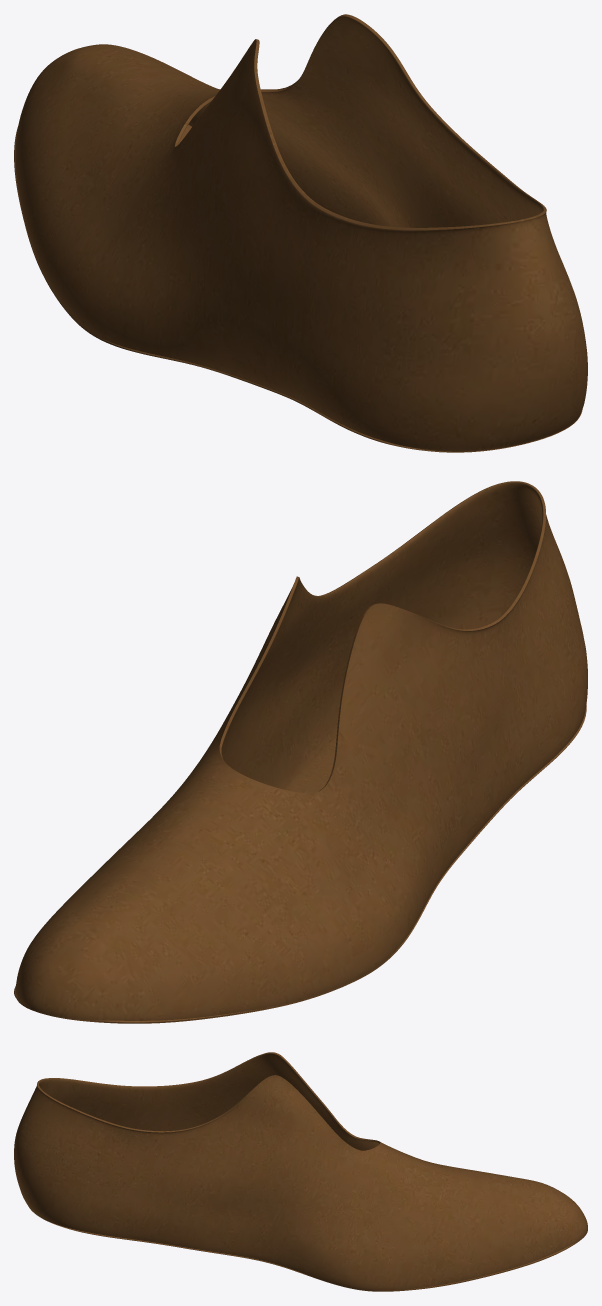
File: vamp_interior.glb
3 renders of one model, top to bottom at view 1: azimuth 30°, elevation 25°; view 2: azimuth 150°, elevation 25°; view 3: azimuth 270°, elevation 25°, orthographic. The views are drawn at different scales.
Visible parts, largest first — view 1: Vamp_interior.002; view 2: Vamp_interior.002; view 3: Vamp_interior.002.
Part boxes in pixels (x1,y1,x2,y2): Vamp_interior.002: [14, 14, 587, 452]; Vamp_interior.002: [14, 481, 587, 1023]; Vamp_interior.002: [14, 1052, 587, 1291].
Bounding box in the file's own units: 0.1529 × 0.1611 × 0.4556.
Materials: 1 (1 with a texture image).
